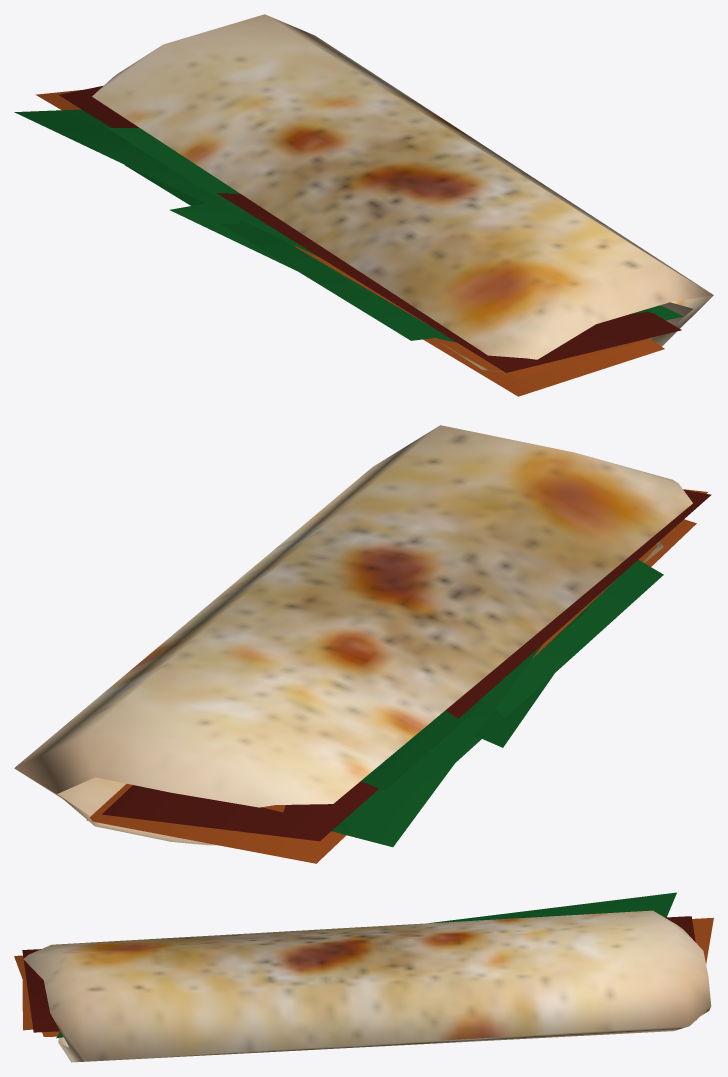
Rendered from FlatbreadEvolved_Sapph.fbx.
3 renders of one model, top to bottom at view 1: azimuth 30°, elevation 25°; view 2: azimuth 150°, elevation 25°; view 3: azimuth 270°, elevation 25°, orthographic. The views are drawn at different scales.
Visible parts, largest first — view 1: FlatbreadHand; view 2: FlatbreadHand; view 3: FlatbreadHand.
Boxes of the visible parts, x1=… form: FlatbreadHand: x1=14, y1=14, x2=713, y2=396; FlatbreadHand: x1=14, y1=425, x2=711, y2=863; FlatbreadHand: x1=14, y1=892, x2=713, y2=1062.
Size of the model in its own units: 25.26 by 5.79 by 49.42.
